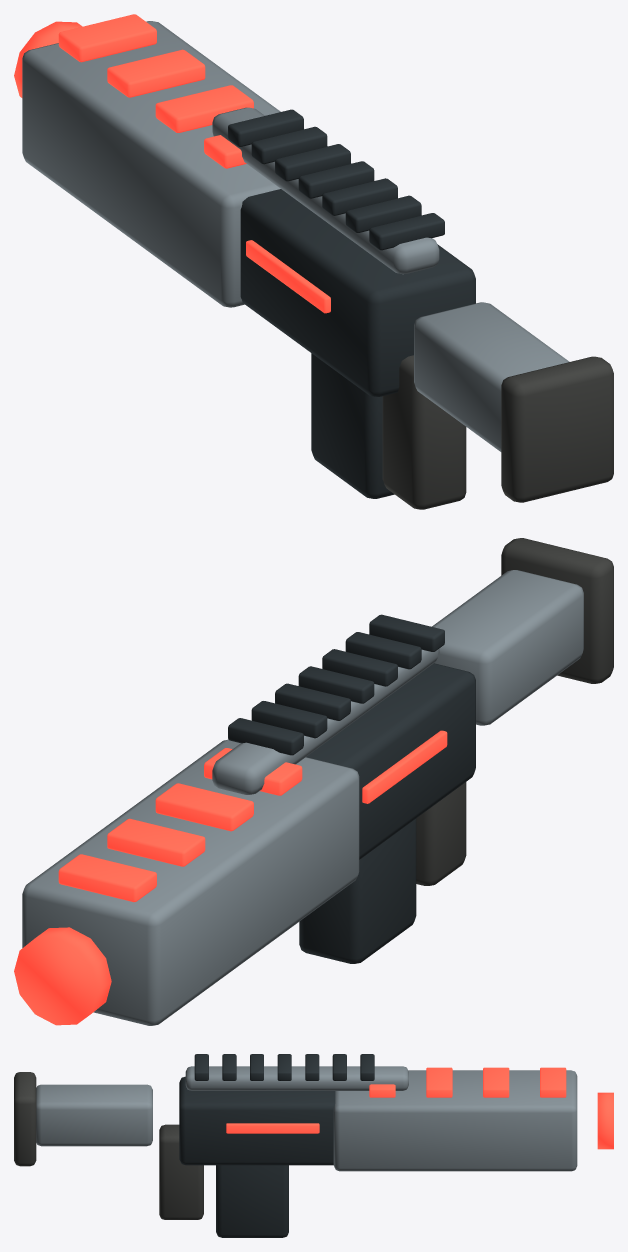
Rendered from weapon-laser.glb.
3 views of the same model, one above another, from view 1: azimuth 30°, elevation 25°; view 2: azimuth 150°, elevation 25°; view 3: azimuth 270°, elevation 25° (orthographic). The views are drawn at different scales.
Parts seen in each view (by area): view 1: Emitter; view 2: Emitter; view 3: Emitter.
Part boxes in pixels (x1,y1,x2,y2): Emitter: [14, 14, 613, 509]; Emitter: [14, 538, 613, 1025]; Emitter: [14, 1054, 613, 1237].
Bounding box in the file's own units: 0.23 × 0.4525 × 1.48.
